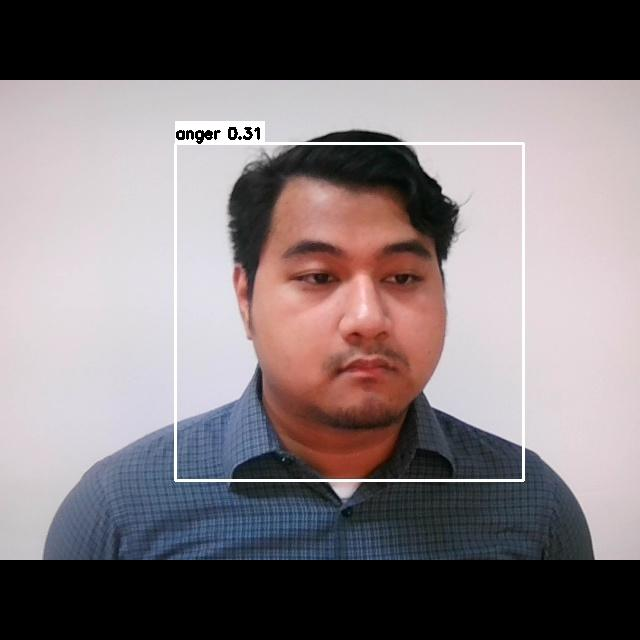Natural: (264, 221, 446, 413)
